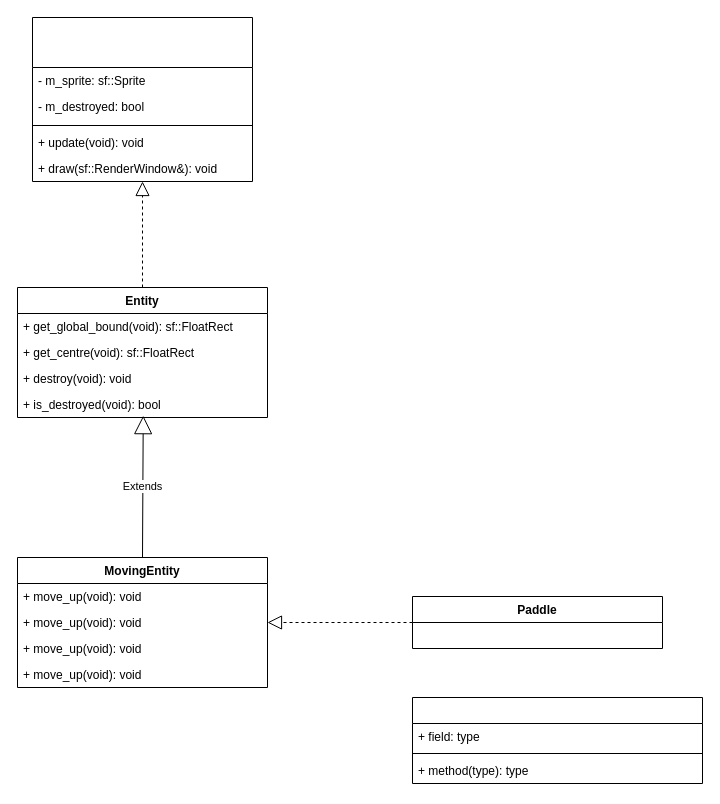
The diagram is 720 pixels wide and 804 high, and some of its shapes have lost their labels. The shapes that lost their labels are listed below. From the top down, each one's box as (x1, y1, x2, y2) in pixels, then its label:
(32, 16, 252, 182): «interface» IEntity
(412, 696, 702, 784): Classname
